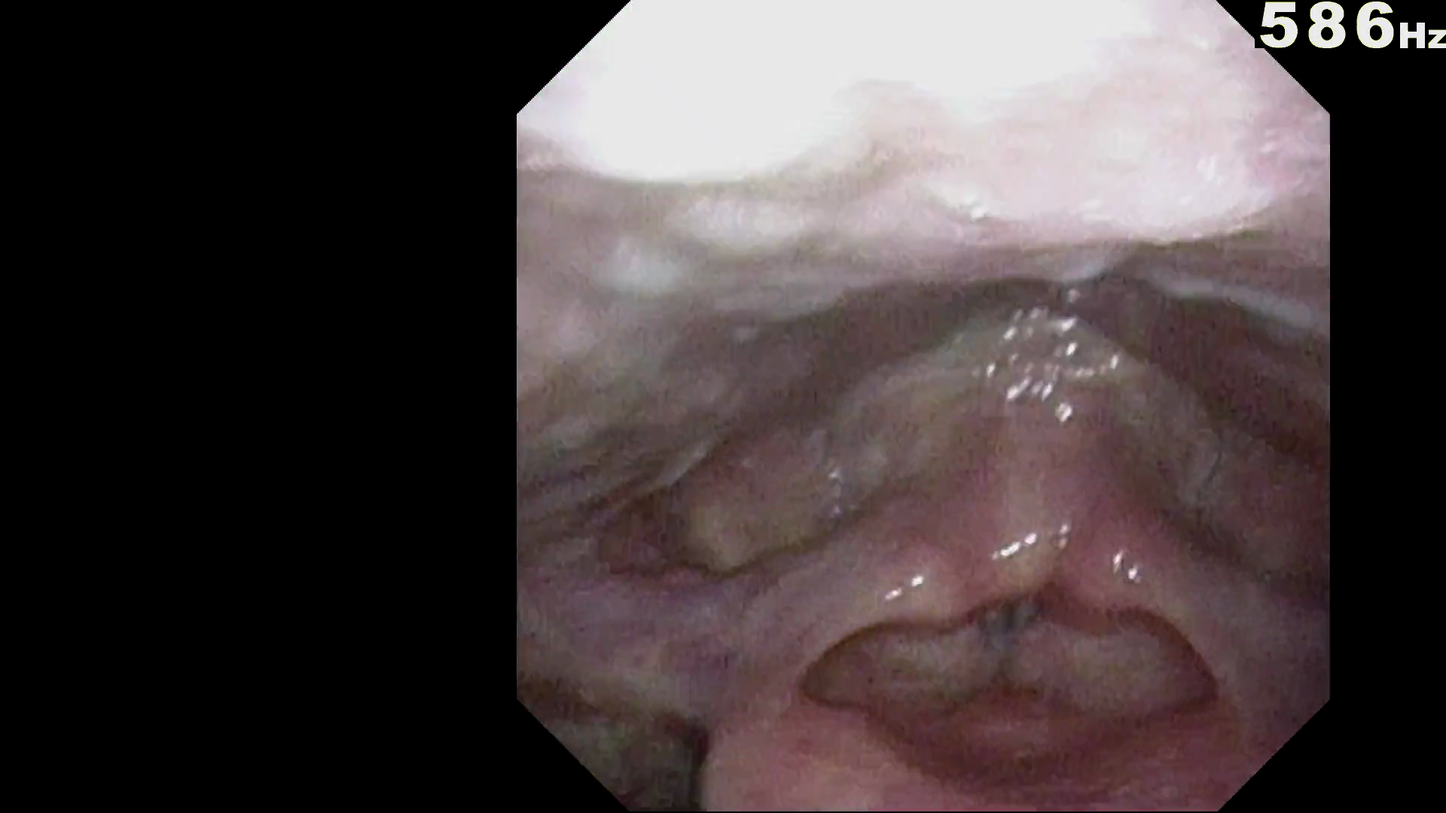epiglottis: (673, 550, 1259, 719)
trachea: (944, 618, 1065, 737)
